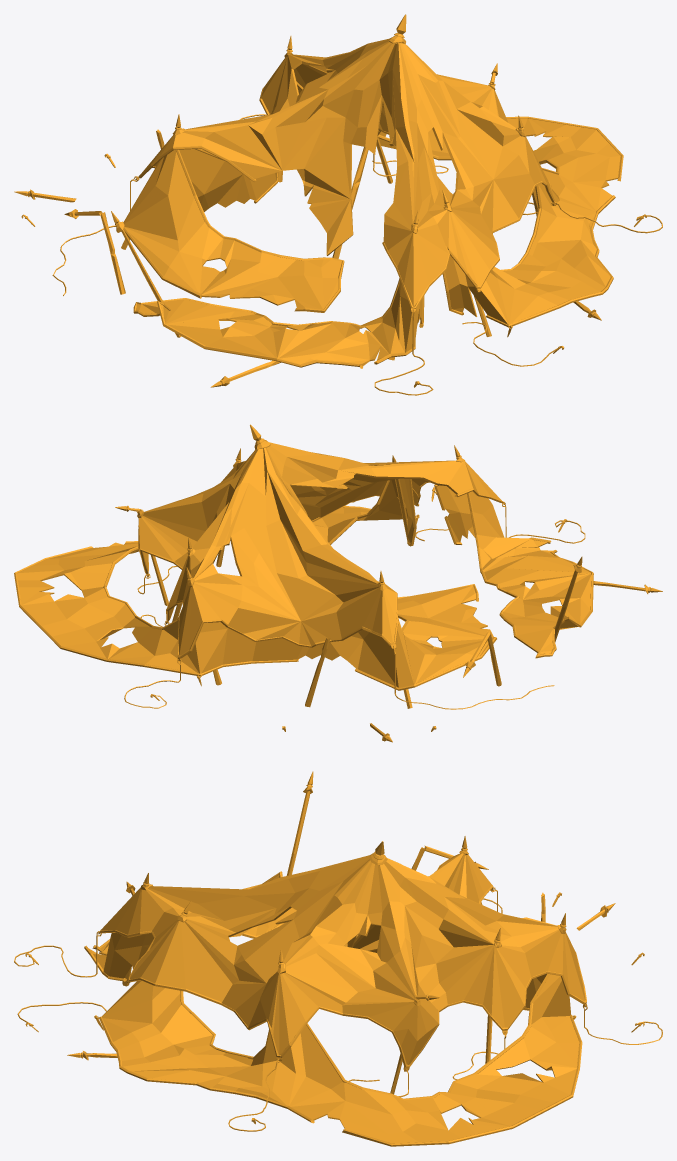
Rendered from SM_Tent_Dodecagon_Plain_Destroyed_Fantasy.fbx.
3 renders of one model, top to bottom at view 1: azimuth 30°, elevation 25°; view 2: azimuth 150°, elevation 25°; view 3: azimuth 270°, elevation 25°, orthographic. The views are drawn at different scales.
Parts seen in each view (by area): view 1: tent-dodecagon-plain-destroyed-fantasy; view 2: tent-dodecagon-plain-destroyed-fantasy; view 3: tent-dodecagon-plain-destroyed-fantasy.
Part boxes in pixels (<box>): tent-dodecagon-plain-destroyed-fantasy: <box>14,14,662,395</box>; tent-dodecagon-plain-destroyed-fantasy: <box>14,424,662,742</box>; tent-dodecagon-plain-destroyed-fantasy: <box>14,771,662,1146</box>.
Bounding box in the file's own units: 14.48 × 5.34 × 14.54.
